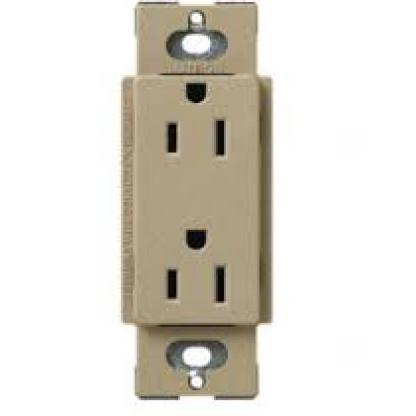OUTLET: (132, 73, 260, 323)
